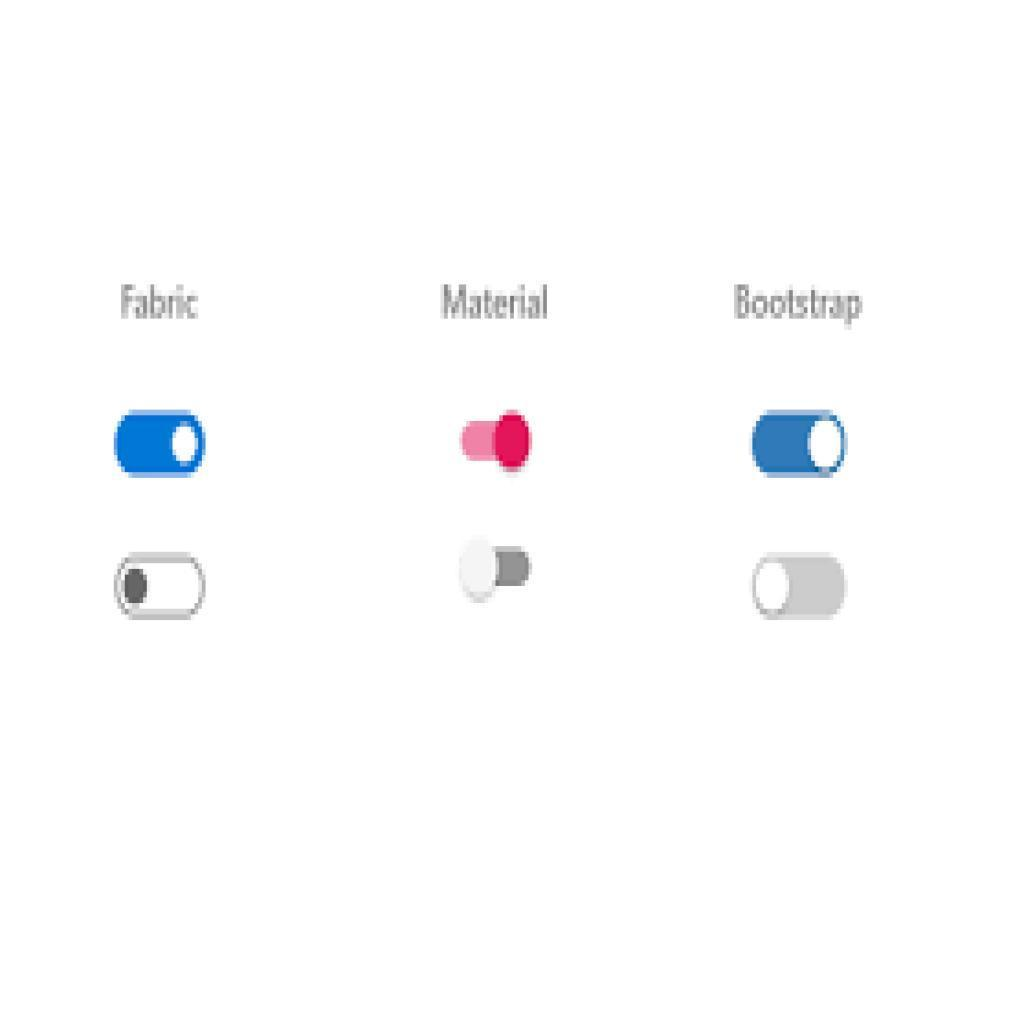switch: (111, 552, 211, 621), (113, 411, 209, 479), (752, 411, 848, 479), (755, 555, 849, 621), (461, 537, 534, 605), (459, 411, 533, 475)
